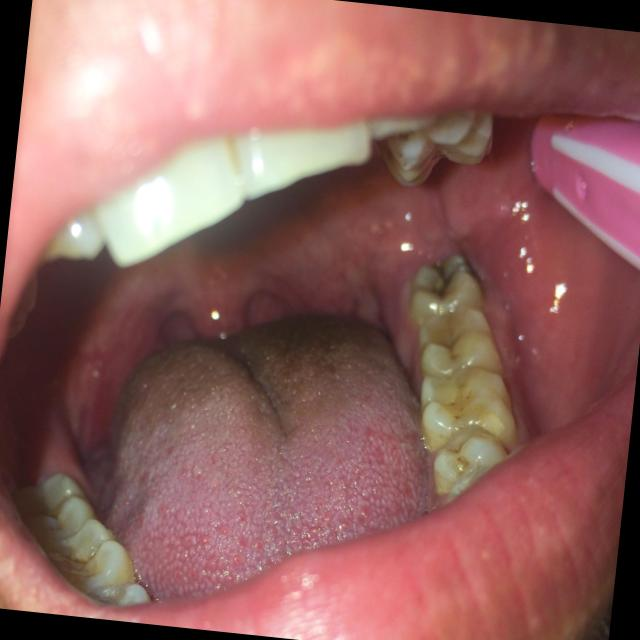Caries: (434, 269, 453, 298)
Tooth: (421, 365, 518, 451), (418, 303, 503, 380), (433, 423, 509, 493), (410, 254, 484, 323), (46, 540, 133, 594), (16, 473, 86, 519), (43, 519, 113, 563), (27, 496, 96, 540), (88, 583, 151, 605)
